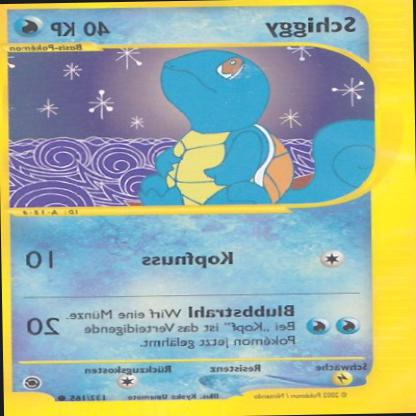Squirtle: (126, 49, 299, 206)
